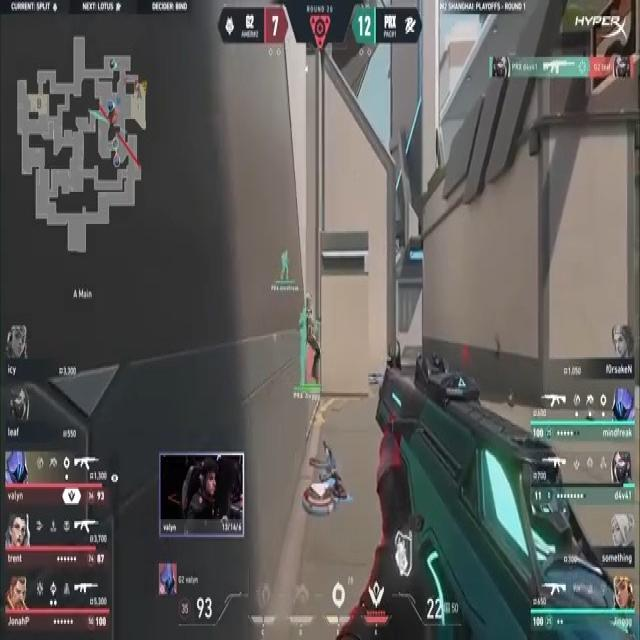ally: (298, 291, 328, 388)
